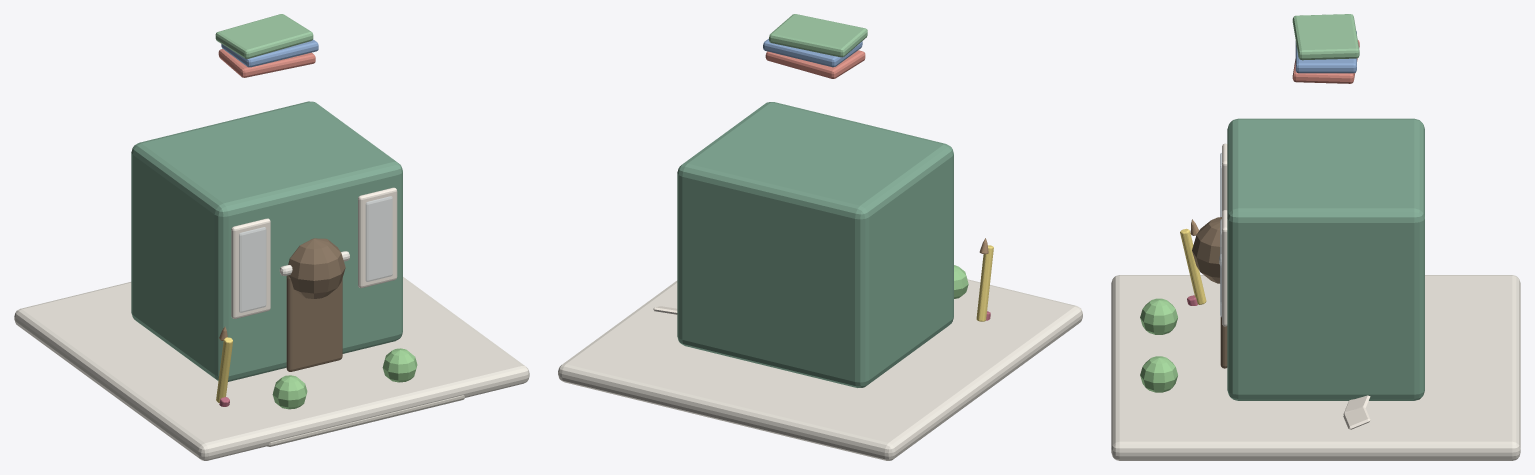
The model's file is library.glb.
3 views of the same model, side by side, from view 1: azimuth 30°, elevation 25°; view 2: azimuth 150°, elevation 25°; view 3: azimuth 270°, elevation 25° (orthographic). The views are drawn at different scales.
Visible parts, largest first — view 1: QBase, QLibWinPane; view 2: QBase; view 3: QBase.
Part boxes in pixels (x1,y1,x2,y2): QBase: [14, 14, 529, 460]; QLibWinPane: [239, 196, 392, 312]; QBase: [558, 14, 1082, 460]; QBase: [1111, 14, 1520, 460].
Size of the model in its own units: 6 by 5.56 by 6.
2 materials, 2 textured.
